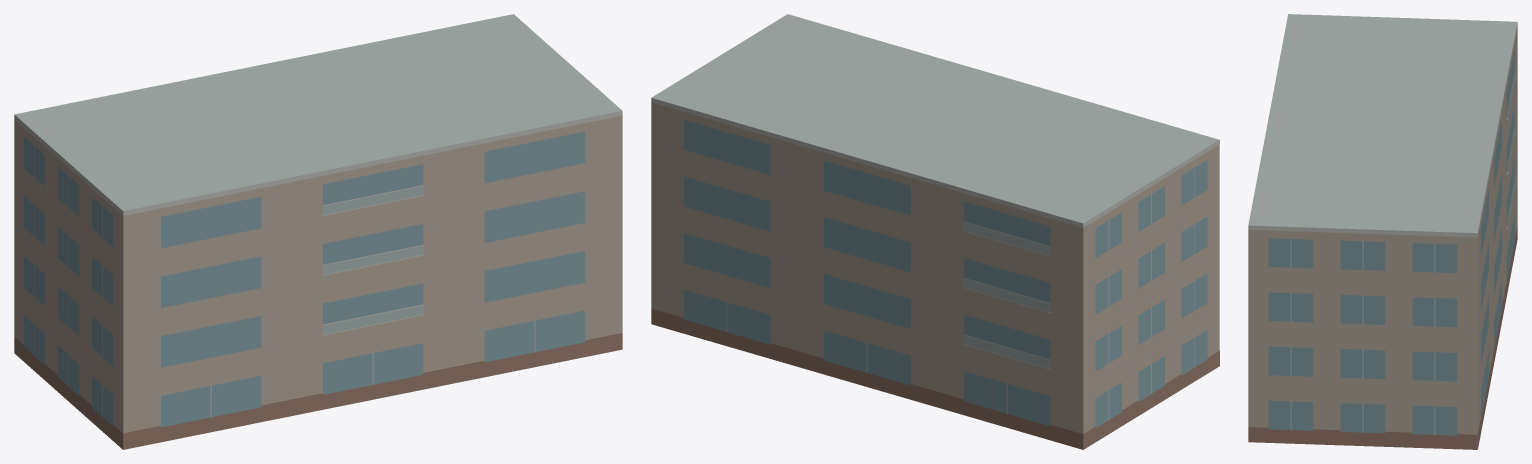
Rendered from residential-326790de-90d4-4c1a-91fe-be0526b2b782.glb.
3 renders of one model, left to right at view 1: azimuth 30°, elevation 25°; view 2: azimuth 150°, elevation 25°; view 3: azimuth 270°, elevation 25°, orthographic. The views are drawn at different scales.
Parts seen in each view (by area): view 1: residential-326790de-90d4-4c1a-91fe-be0526b2b782.tmp; view 2: residential-326790de-90d4-4c1a-91fe-be0526b2b782.tmp; view 3: residential-326790de-90d4-4c1a-91fe-be0526b2b782.tmp.
Boxes of the visible parts, x1,y1,x2,y2 form: residential-326790de-90d4-4c1a-91fe-be0526b2b782.tmp: [14, 14, 622, 449]; residential-326790de-90d4-4c1a-91fe-be0526b2b782.tmp: [651, 14, 1219, 449]; residential-326790de-90d4-4c1a-91fe-be0526b2b782.tmp: [1248, 14, 1517, 449].
Bounding box in the file's own units: 26.48 × 12.2 × 13.76.
